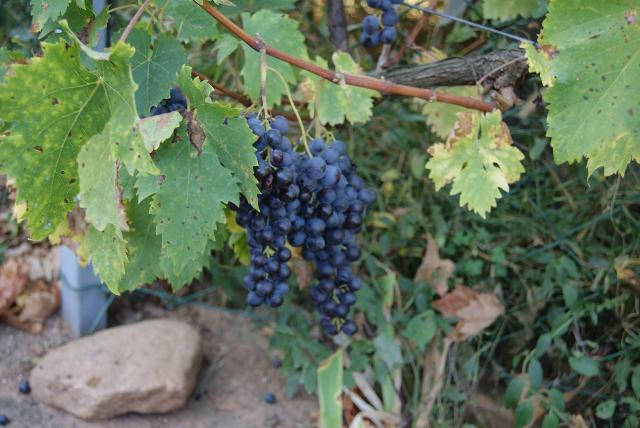grapes: (299, 139, 376, 335), (236, 116, 296, 308), (296, 174, 304, 185), (299, 169, 300, 172)
